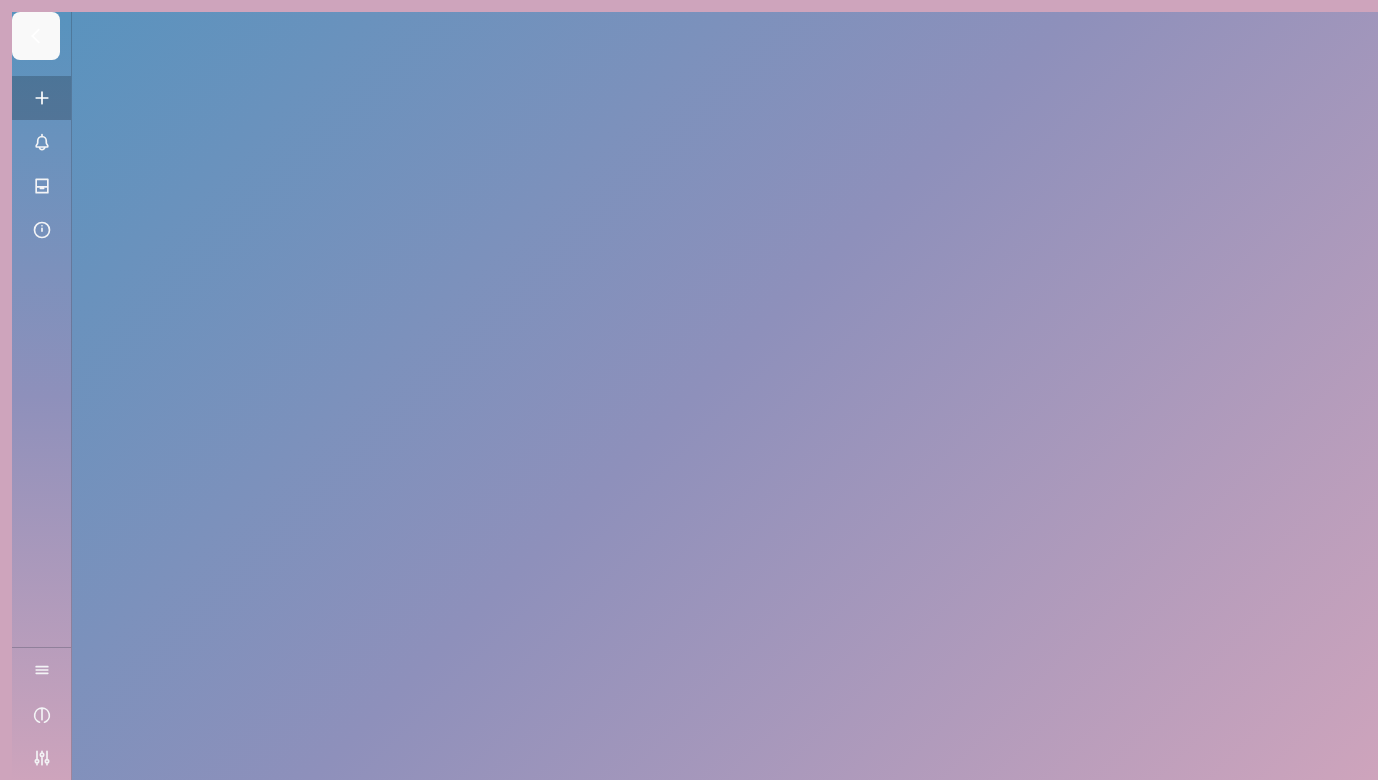
Test: SideNav › renders conversation sections when expanded
The width and height of the screenshot is (1378, 780).
Click expand button to show conversations
Click the button named "expand". click: x=36, y=36
box: x1=12 y1=12 x2=60 y2=60
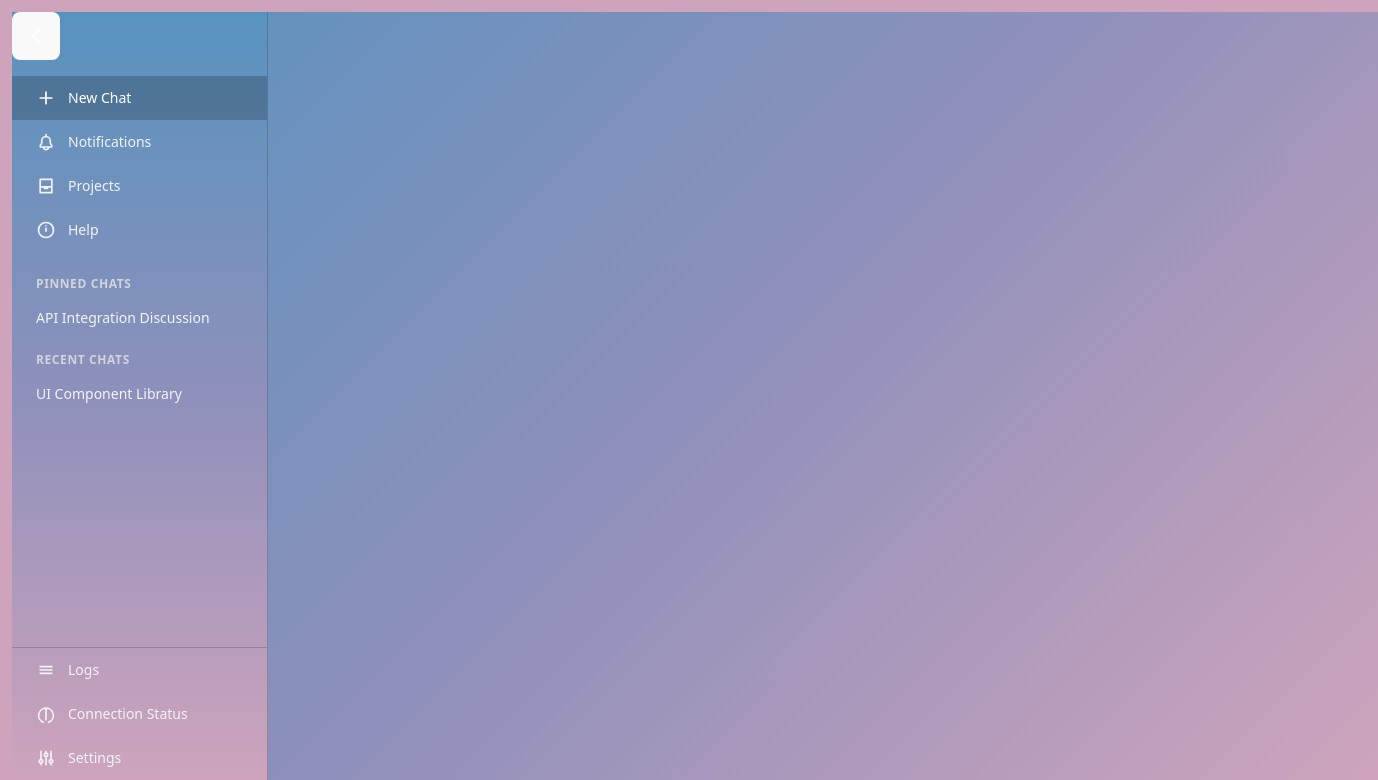
Expected: the heading "Pinned Chats" is shown, x1=36 y1=275 x2=132 y2=292
Expected: the heading "Recent Chats" is shown, x1=36 y1=351 x2=130 y2=368
Expected: the text "API Integration Discussion" is shown, x1=36 y1=308 x2=210 y2=328
